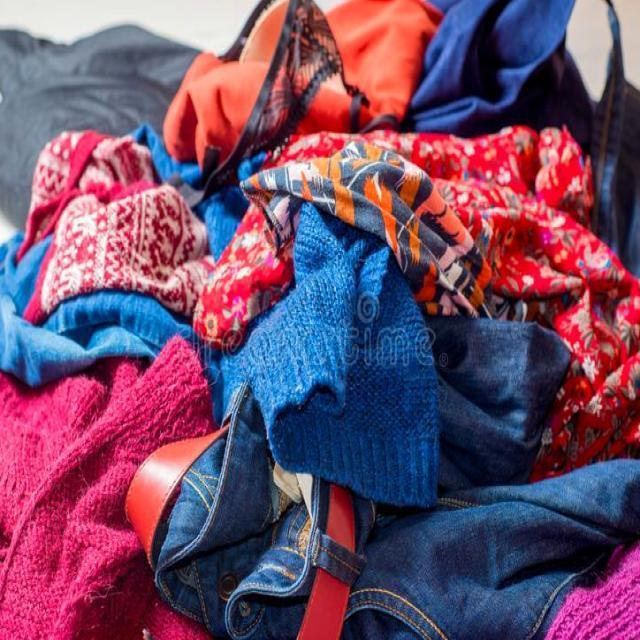clothes: (10, 107, 627, 640)
